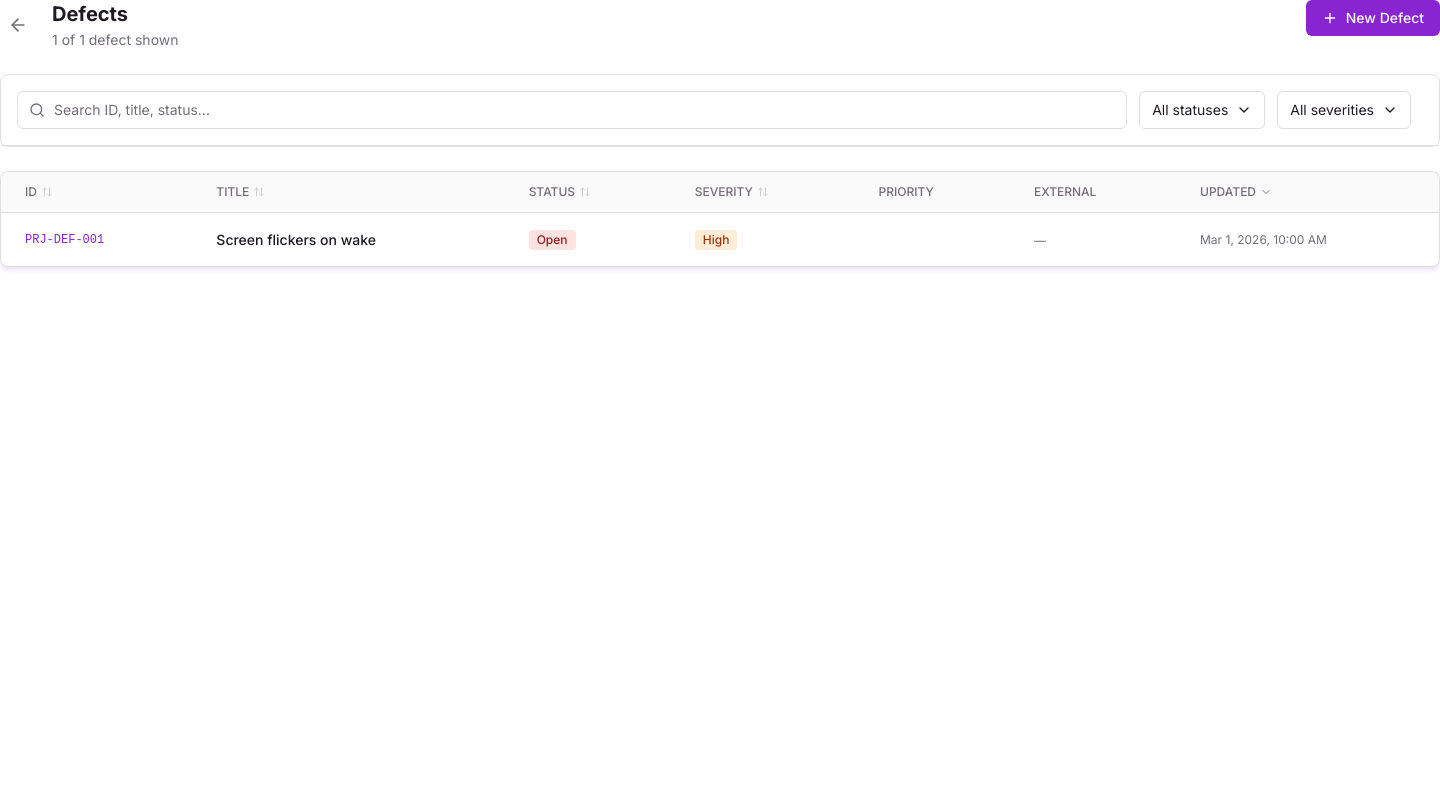
Test case: raising a defect › says so when the server rejects it
Click the button "New Defect" at (1373, 18), box [1306,0,1439,36]
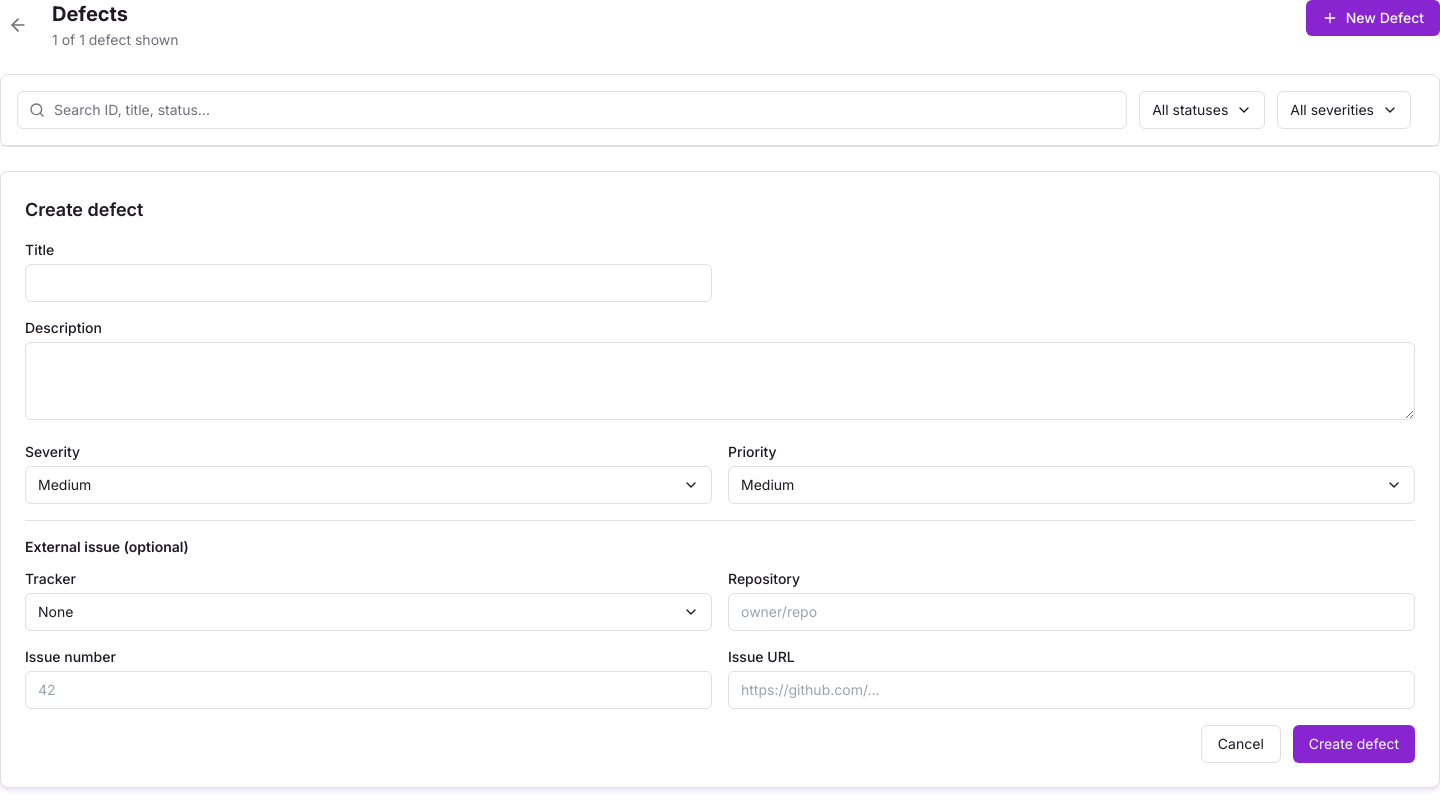
Type "Duplicate" into the field titled "Title" at (368, 283), box [25,264,712,302]
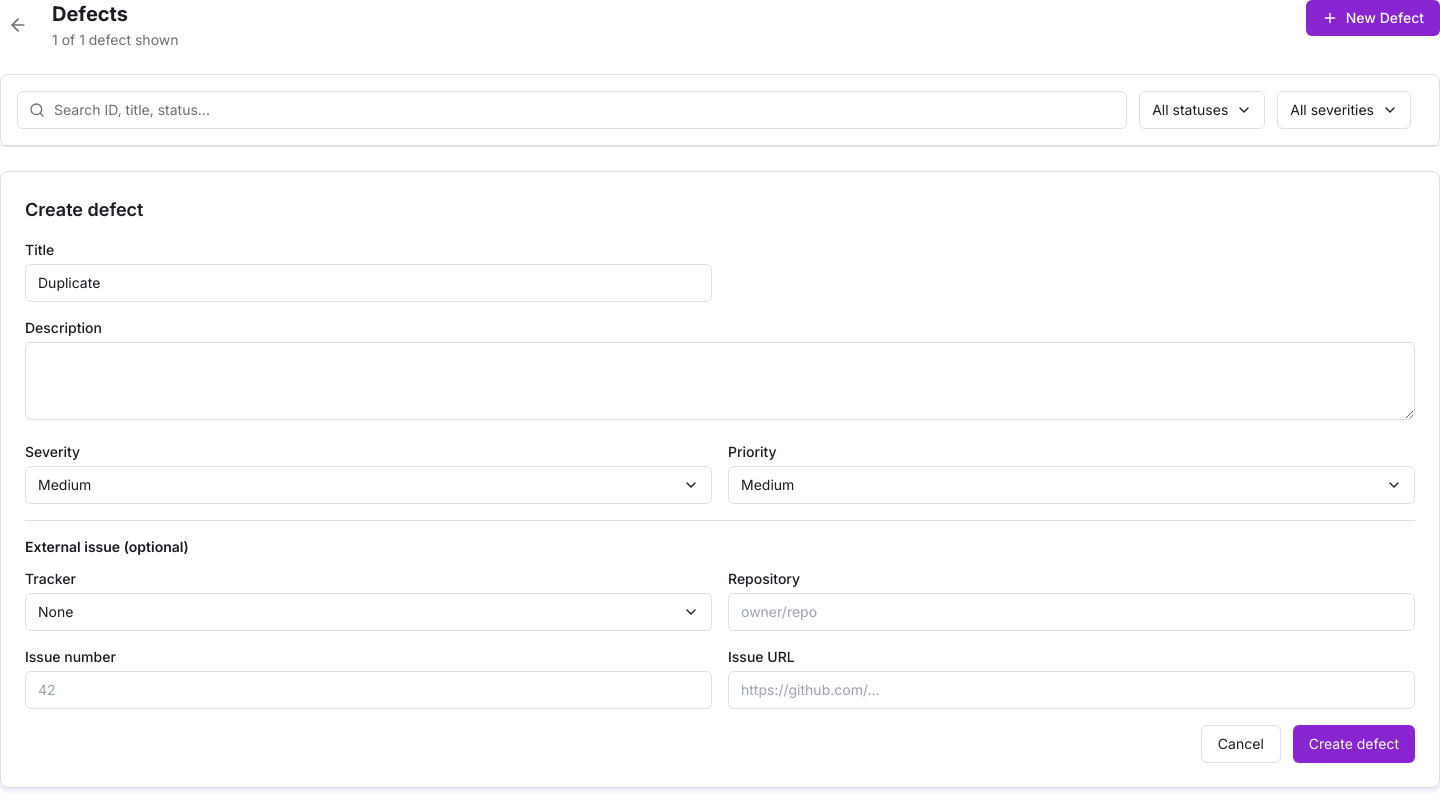
Click the button "Create defect" at (1354, 744), box [1293,725,1415,763]
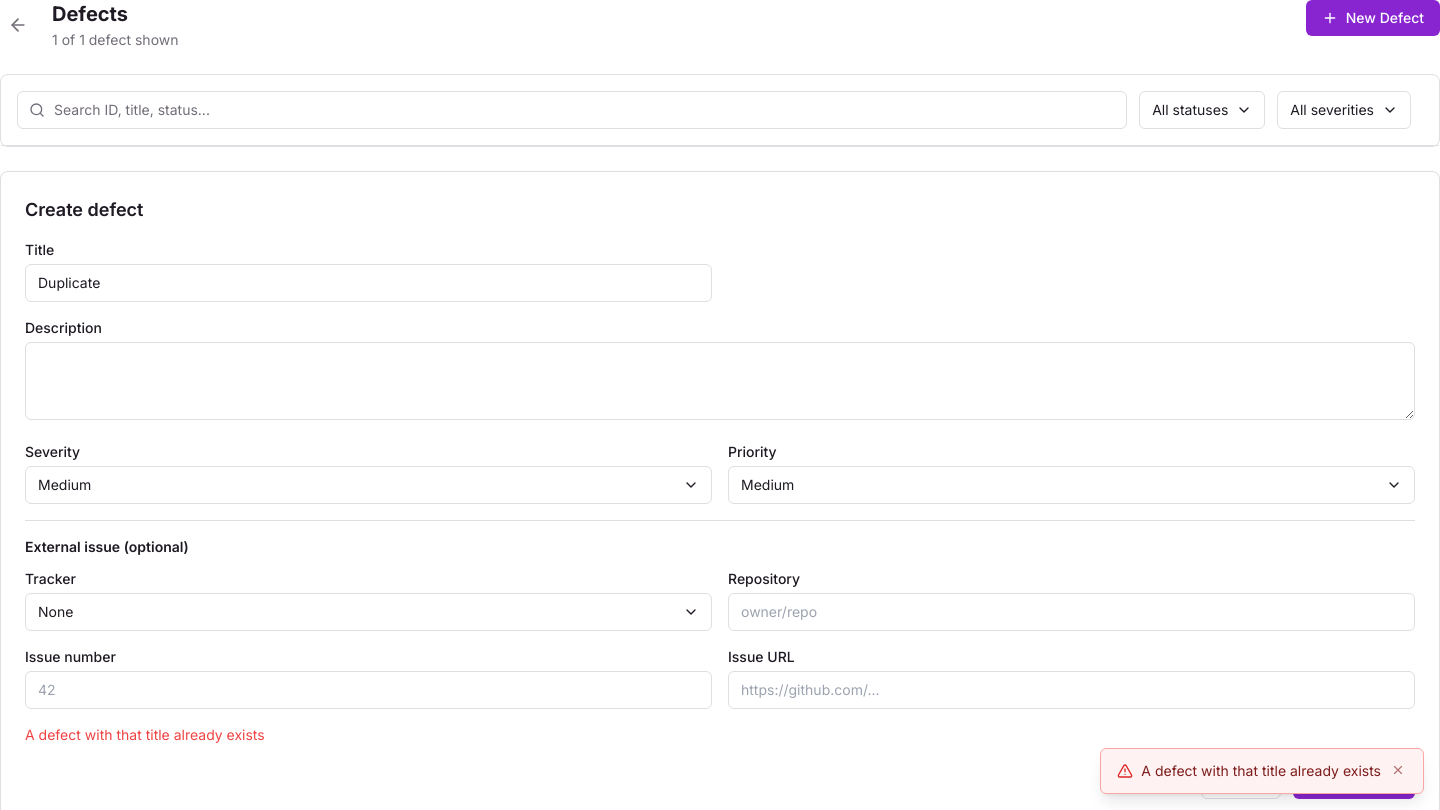
Result: the text "A defect with that title already exists" below "Issue number" is shown at [25,726,265,743]
